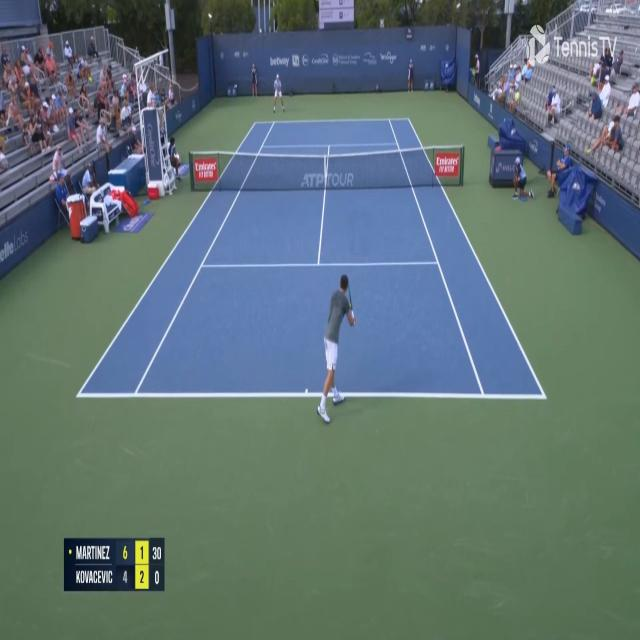tennis-player: (315, 272, 356, 428), (272, 74, 286, 115)
